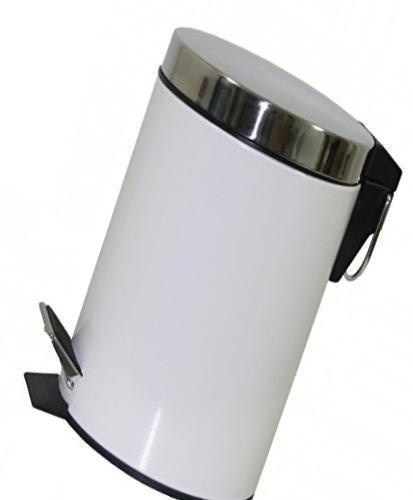Bote de Basura: (55, 23, 379, 499)
